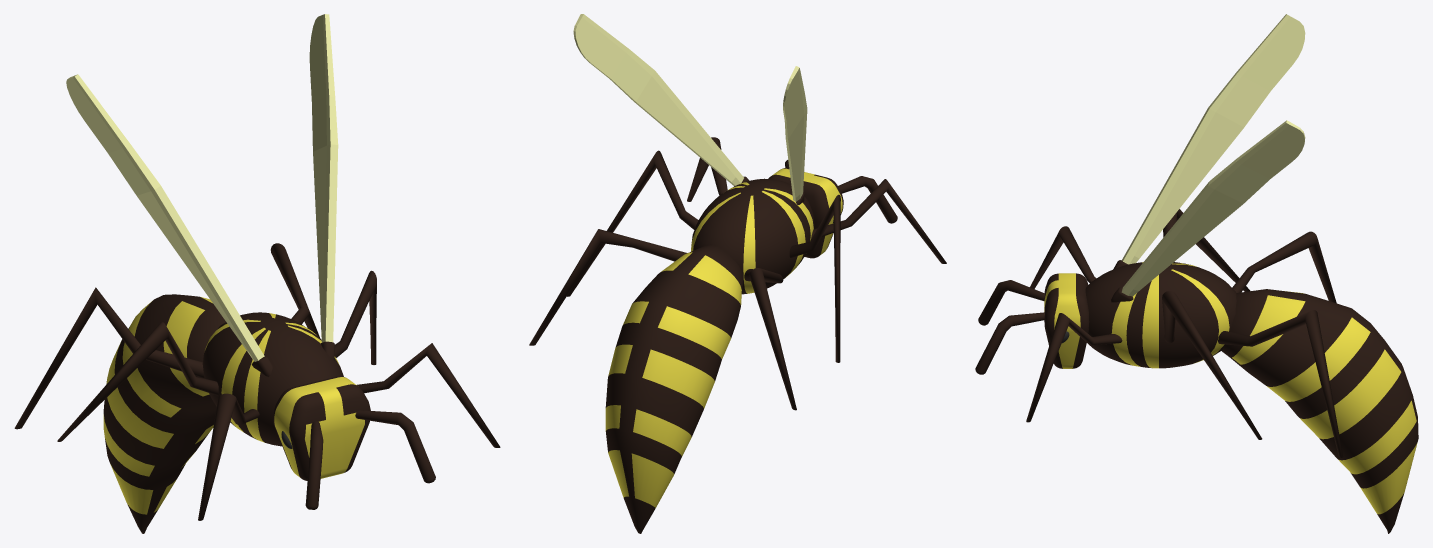
File: wasp.fbx
The picture shows the model from 3 angles, left to right: view 1: azimuth 30°, elevation 25°; view 2: azimuth 150°, elevation 25°; view 3: azimuth 270°, elevation 25°; orthographic projection. The views are drawn at different scales.
Visible parts, largest first — view 1: Wasp; view 2: Wasp; view 3: Wasp.
Part boxes in pixels (x1,y1,x2,y2): Wasp: [14, 14, 500, 533]; Wasp: [529, 14, 946, 533]; Wasp: [975, 14, 1418, 533].
Bounding box in the file's own units: 600 × 824 × 957.
